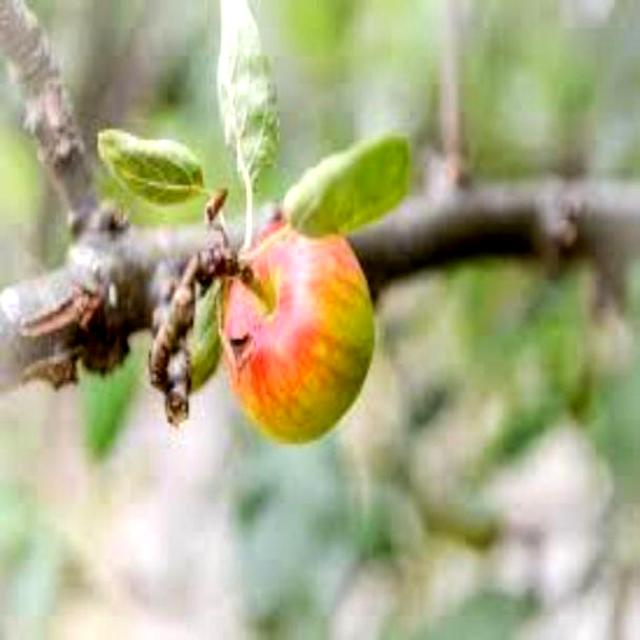HEALTHY: (208, 192, 388, 455)
